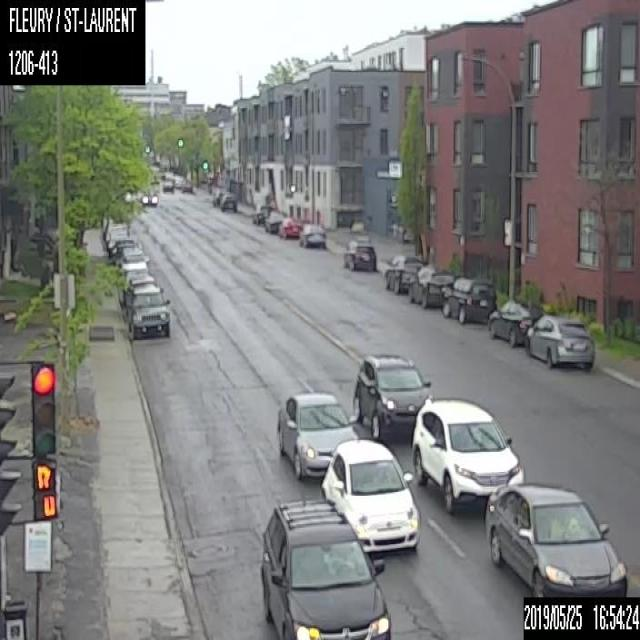vehicle: (260, 499, 391, 639), (484, 482, 627, 599), (412, 399, 523, 513), (320, 438, 420, 555), (352, 353, 435, 438), (277, 393, 358, 480), (524, 314, 594, 369), (440, 275, 496, 324), (487, 298, 542, 347), (125, 284, 170, 340), (407, 264, 453, 308), (384, 255, 423, 293), (342, 235, 375, 269), (298, 223, 326, 249), (277, 216, 301, 239), (264, 212, 282, 233), (252, 203, 270, 224), (219, 192, 236, 212), (140, 191, 157, 205), (162, 179, 174, 192)
